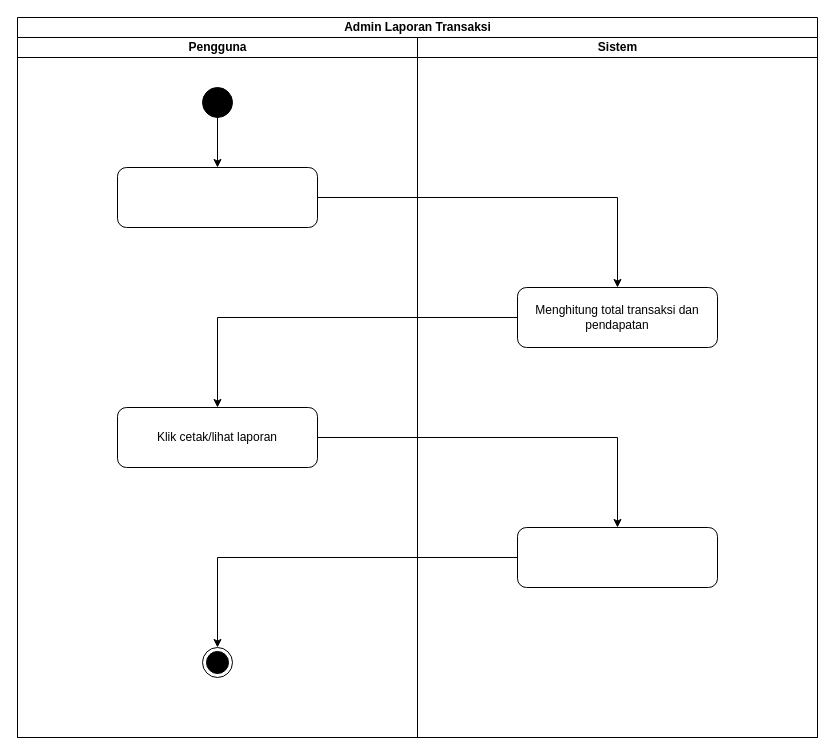
Image size: 835x755. Some labels were removed from this diagram. The shapes that lost their labels are listed below. From the top down, each one's centre as x and y in pixels, then its label:
At point (217, 197): "Memilih periode laporan".
At point (617, 557): "Menghasilkan laporan dalam bentuk tabel/grafik".
